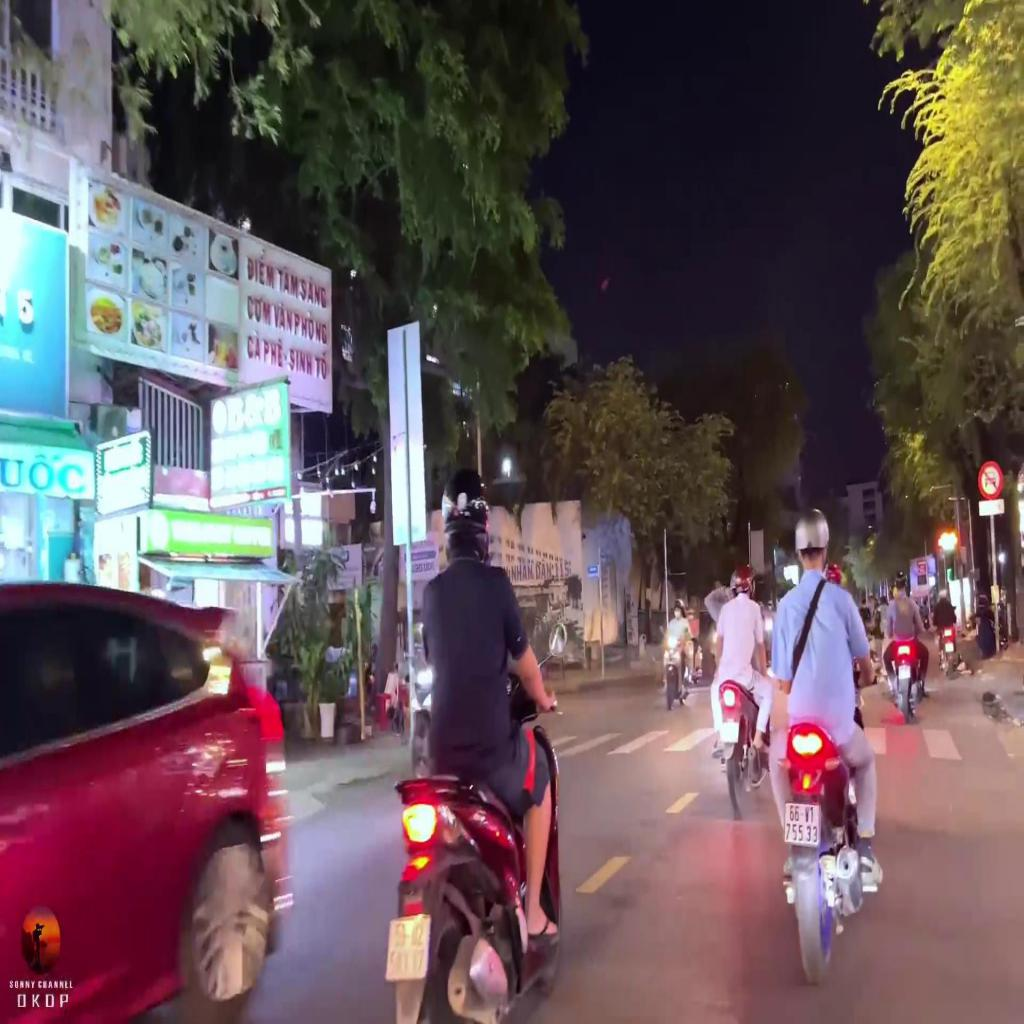cam_o_to: (976, 460, 1004, 502)
khac: (976, 500, 1005, 516)
